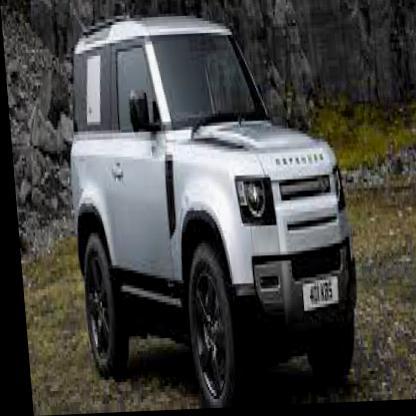Car: (56, 9, 359, 411)
